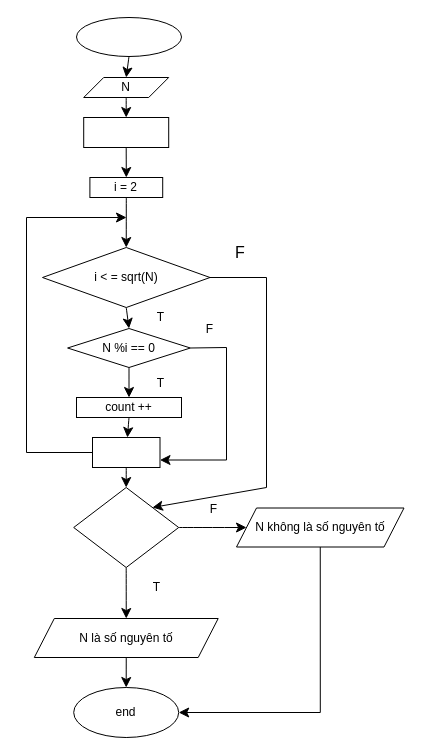
This 422x755 diagram has some shape labels left out. Each missing label, with the box of its shape:
begin: (76, 16, 182, 56)
count = 0: (83, 116, 169, 148)
count == 0: (73, 486, 179, 568)
i++: (92, 436, 160, 468)
